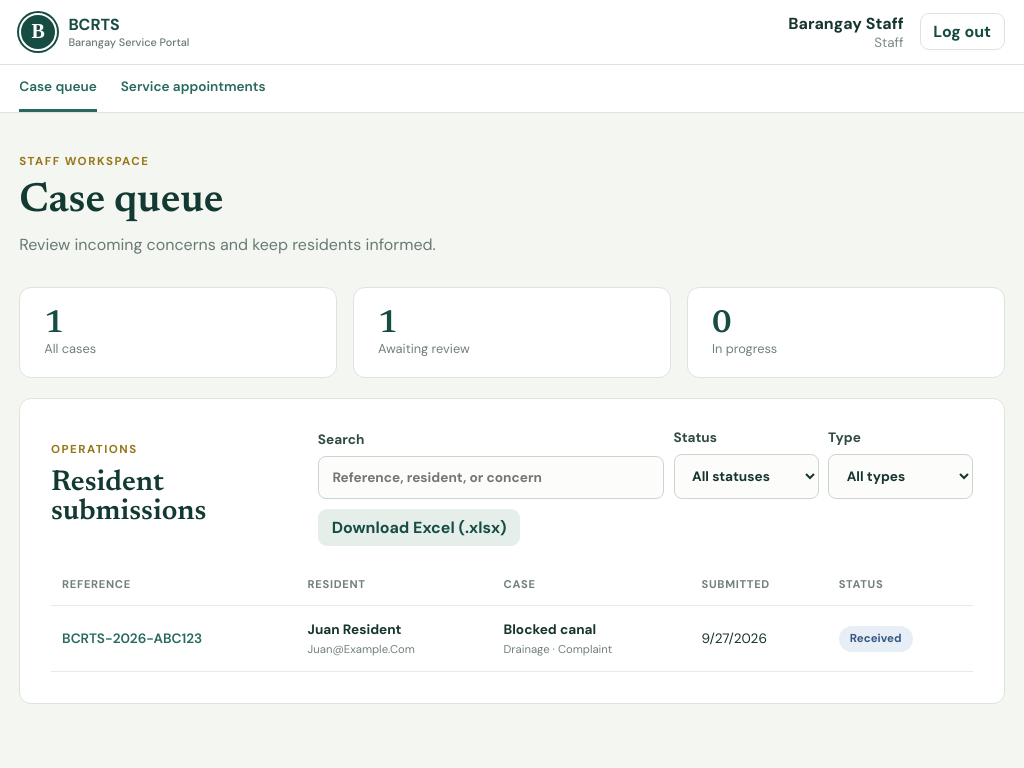
BCRTS frontend › keeps scheduled services on the appointments page and filters the concern queue
This screenshot has width=1024, height=768.
Expected: the text "Blocked canal" is shown, [504, 621, 596, 638]
Select "Requests" in the dropdown named "Filter by type" at [901, 476], box [828, 454, 973, 499]
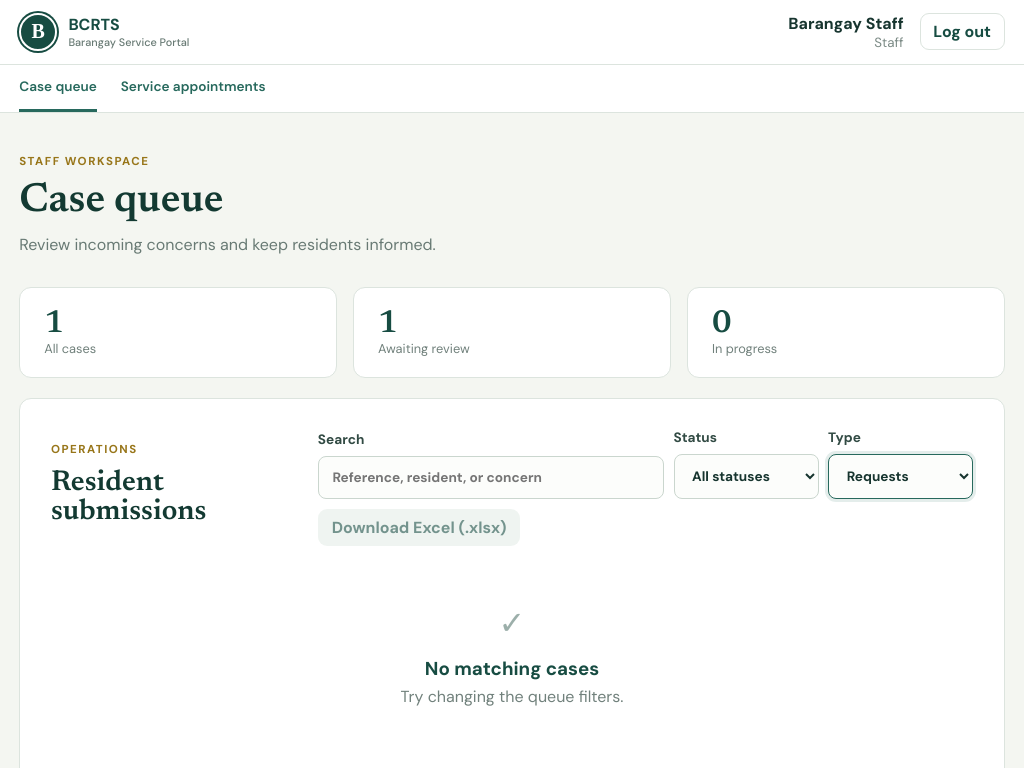
Now the text "Blocked canal" is gone
Now the heading "No matching cases" is shown, box [425, 656, 599, 681]
Select "Complaints" in the dropdown named "Filter by type" at [901, 476], box [828, 454, 973, 499]
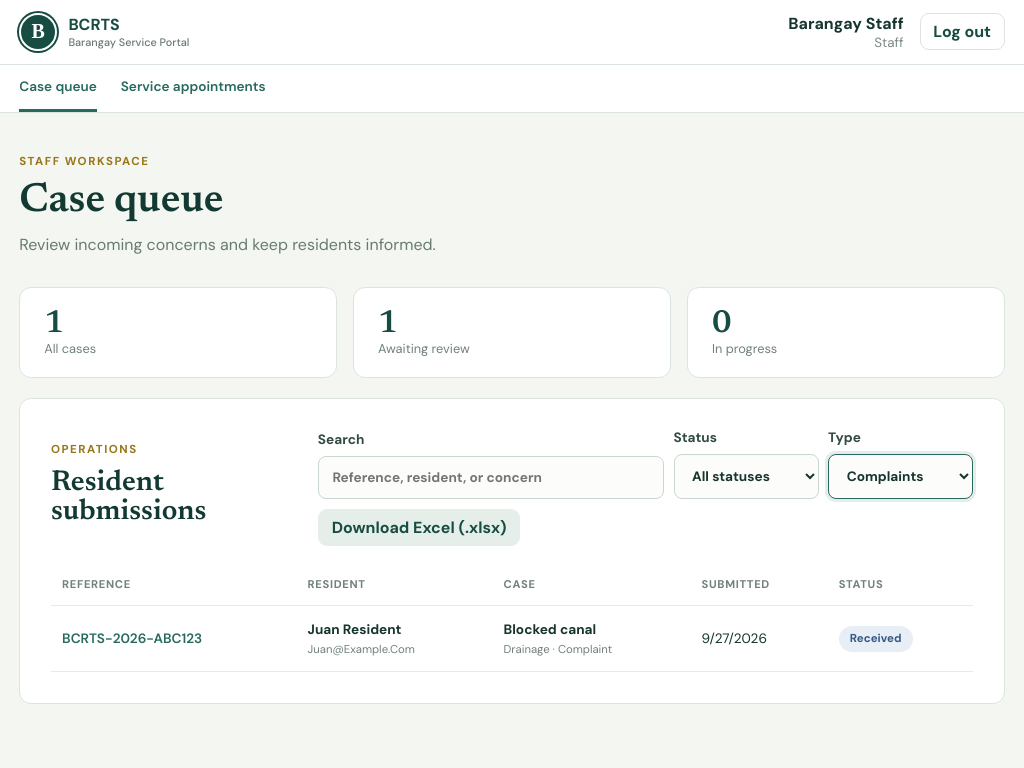
Now the text "Blocked canal" is shown, box [504, 621, 596, 638]
Select "Resolved" in the dropdown named "Filter by status" at [746, 476], box [674, 454, 818, 499]
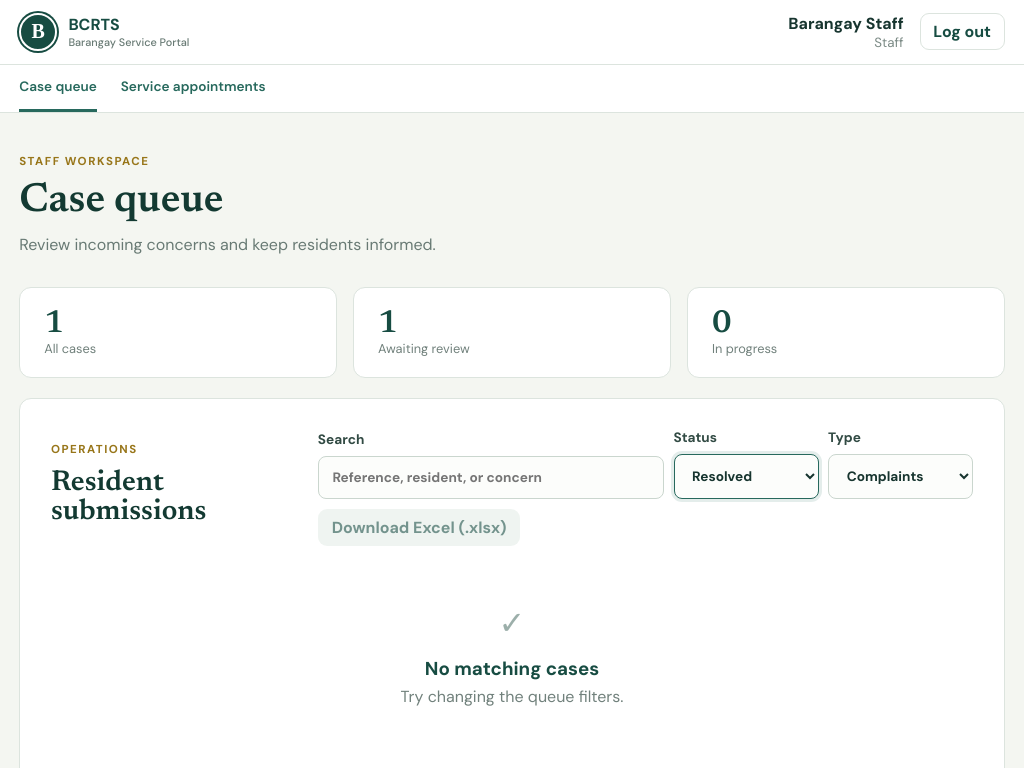
Now the heading "No matching cases" is shown, box [425, 656, 599, 681]
